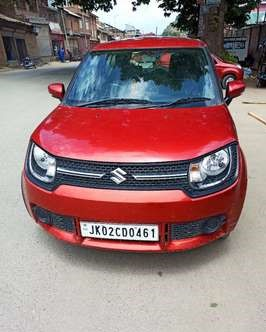JK02CD0461: (79, 221, 159, 240)
